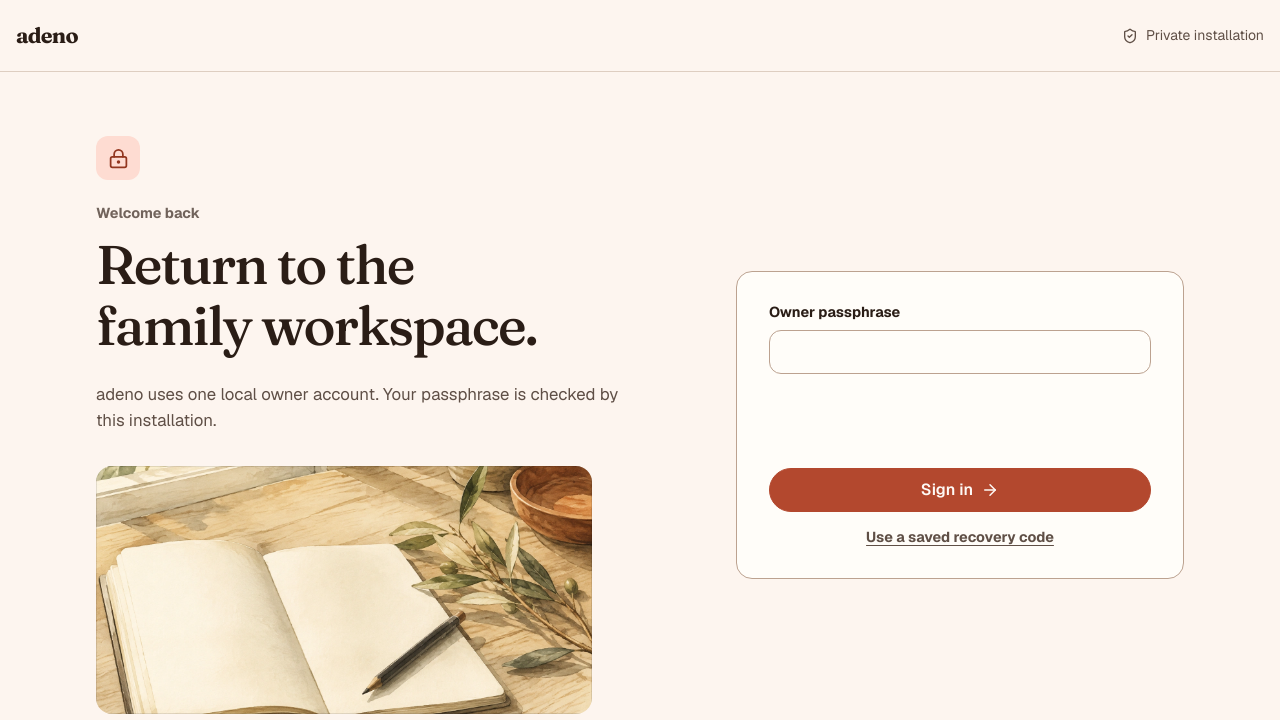
Test: returns a caregiver to the workspace after a successful local login
Type "synthetic owner passphrase" into the password field labelled "Owner passphrase".
click(960, 352); type("synthetic owner passphrase")  # box [769,330,1151,374]
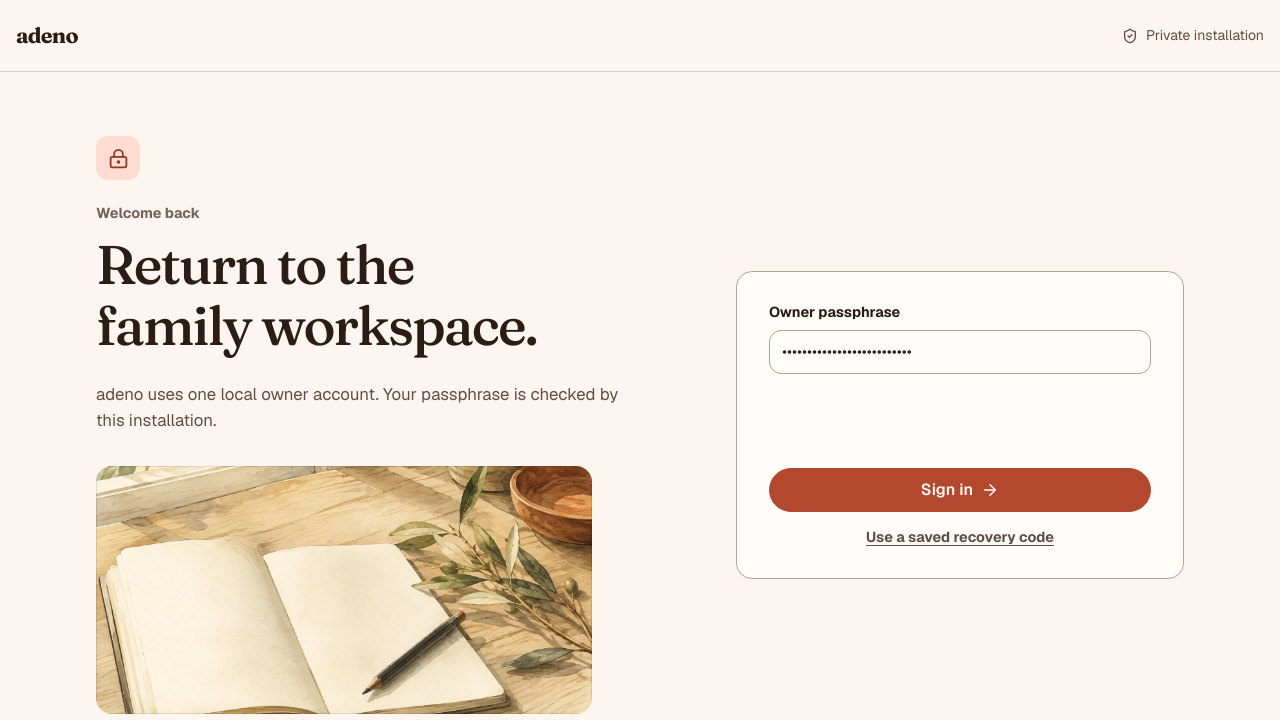
Click the button "Sign in".
click(960, 490)  # box [769,468,1151,512]
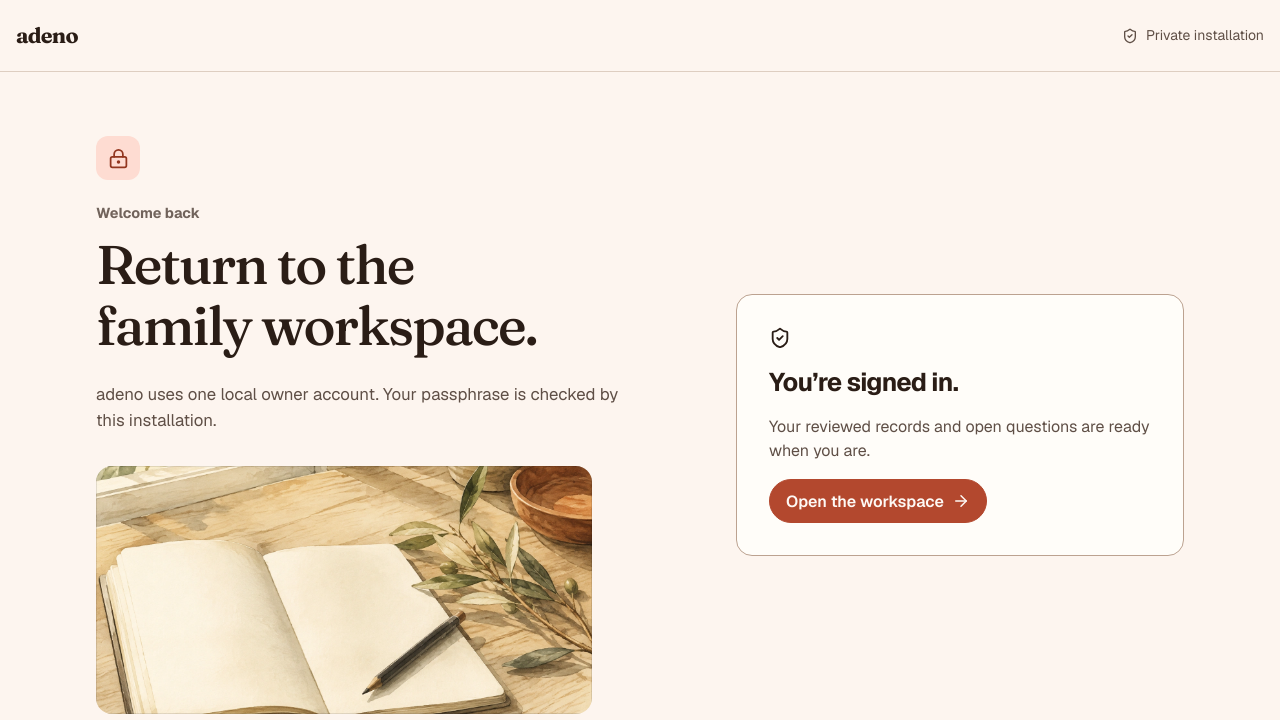
Result: the heading "You’re signed in." is shown at [769,365,958,399]
